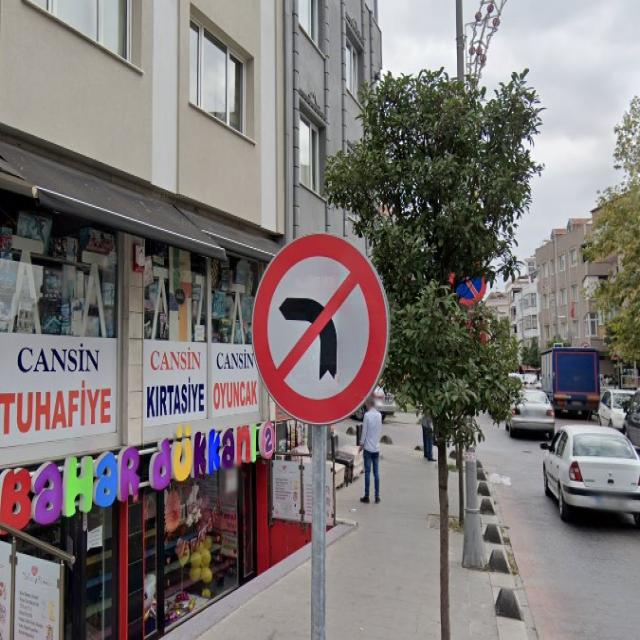parkyasak: (448, 257, 486, 306)
soladonulmez: (251, 233, 392, 424)
